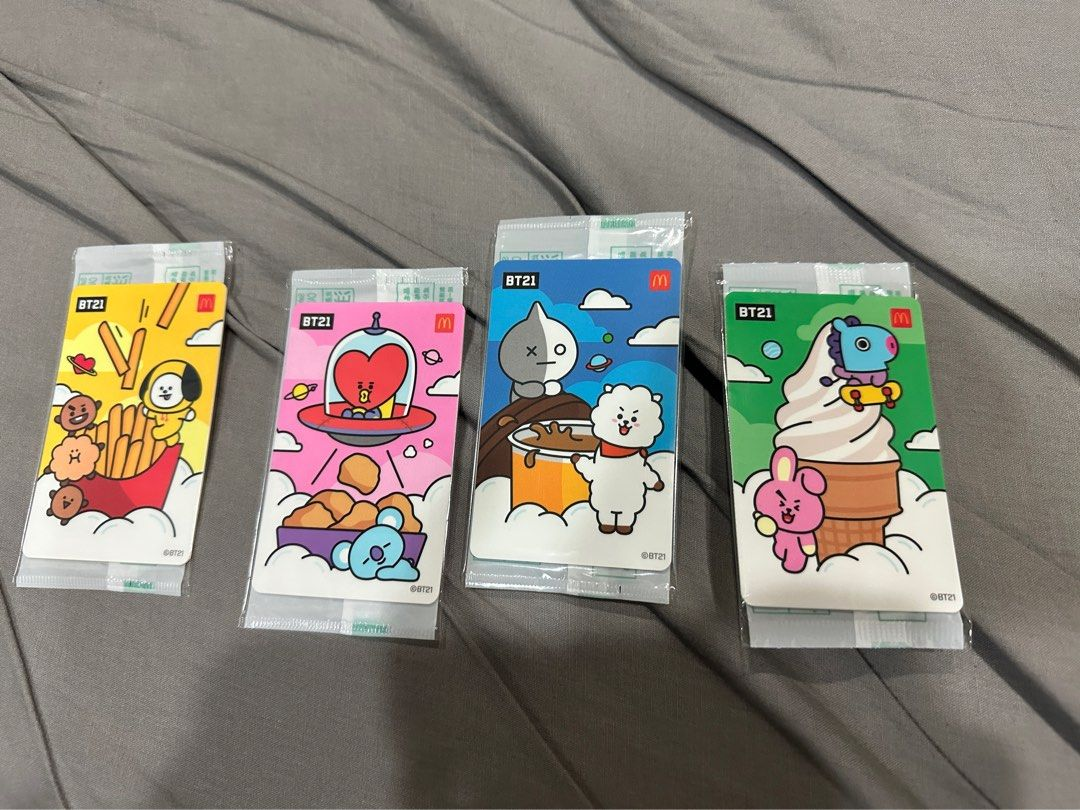card: (247, 300, 466, 606)
